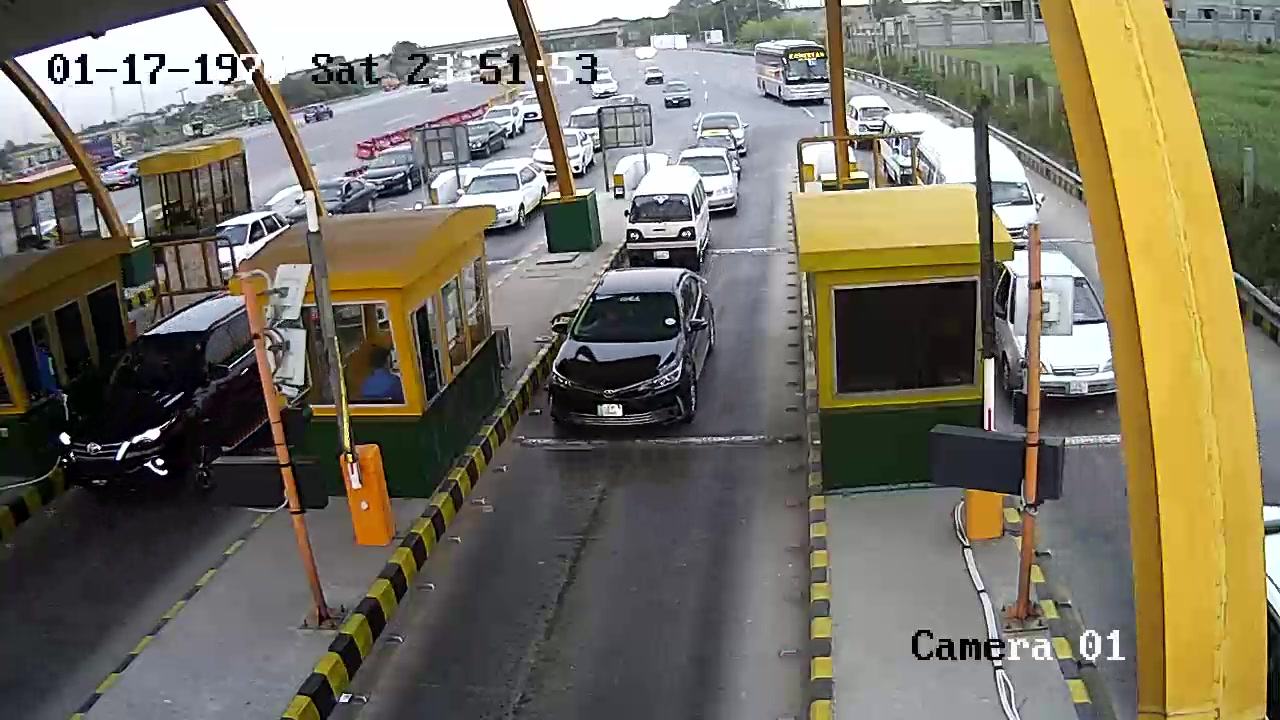F1: (537, 267, 728, 441)
